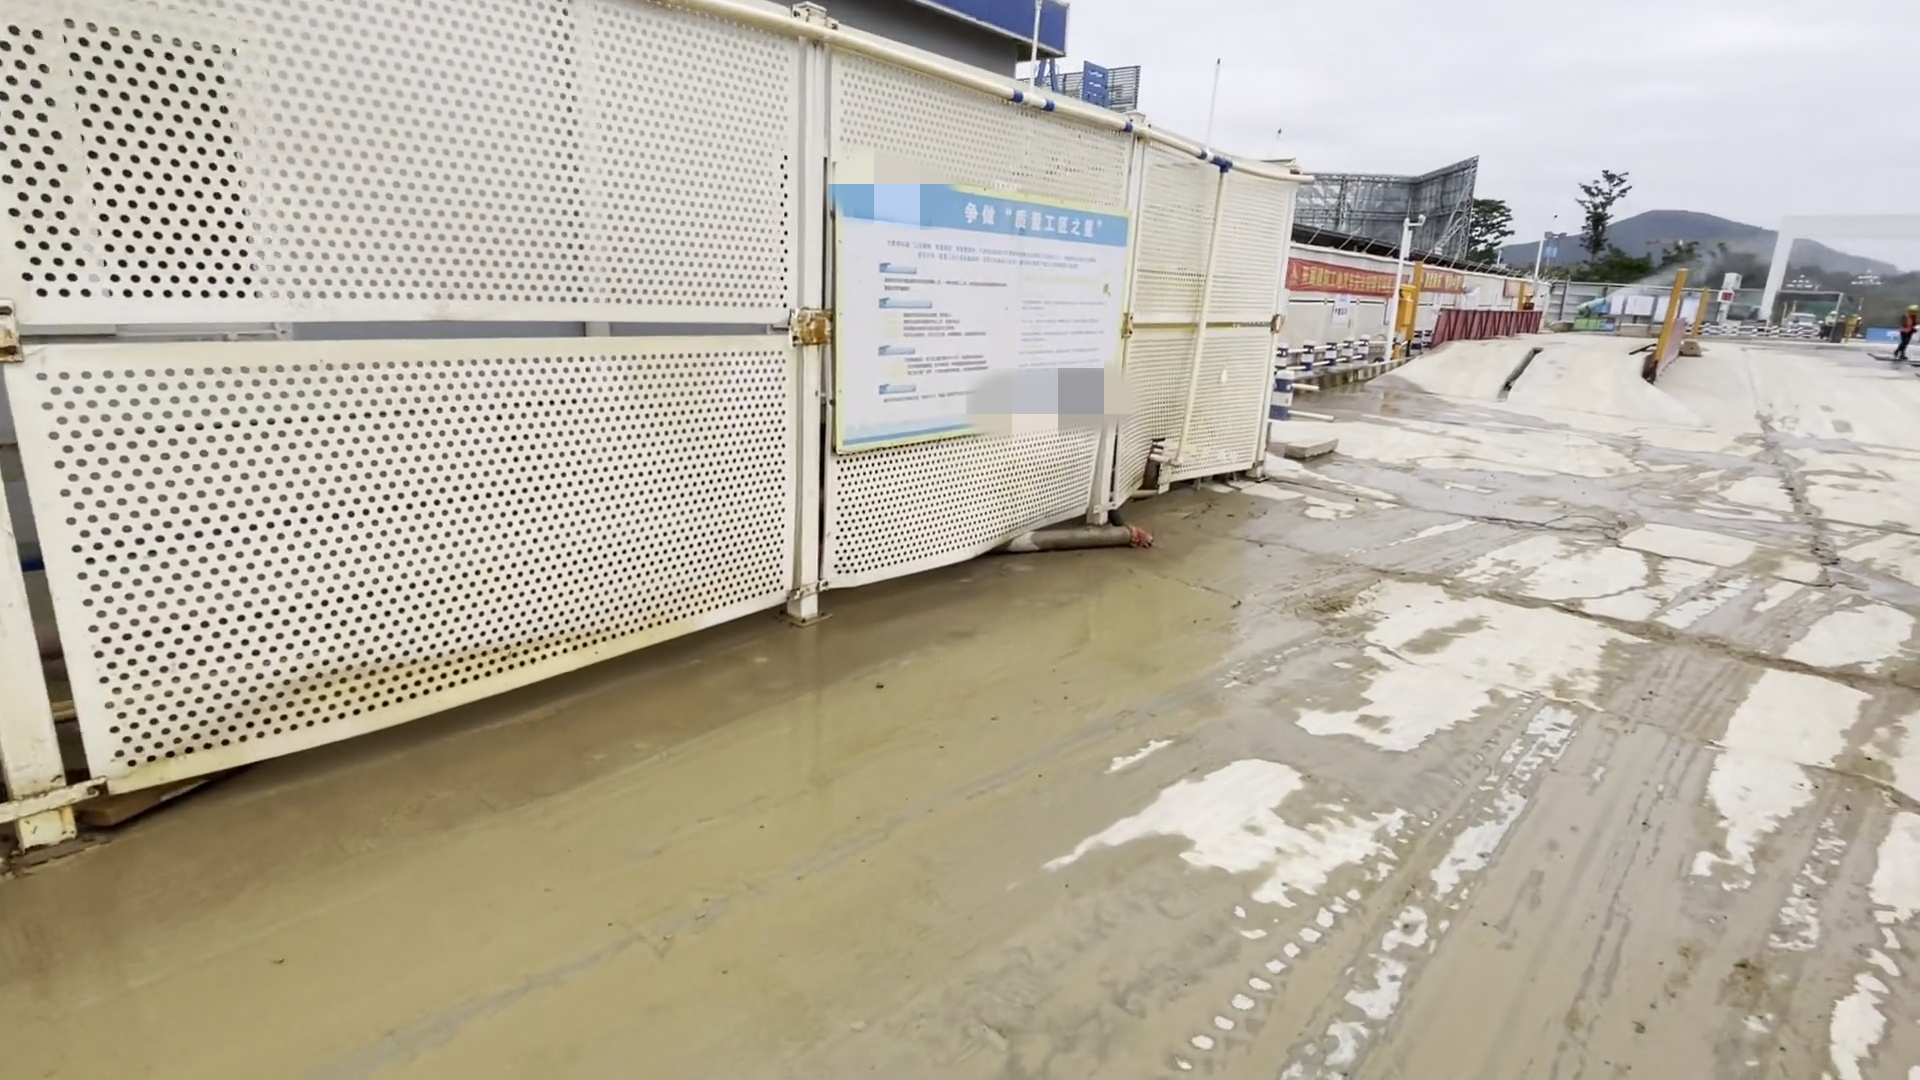slogan: (804, 153, 1124, 464)
